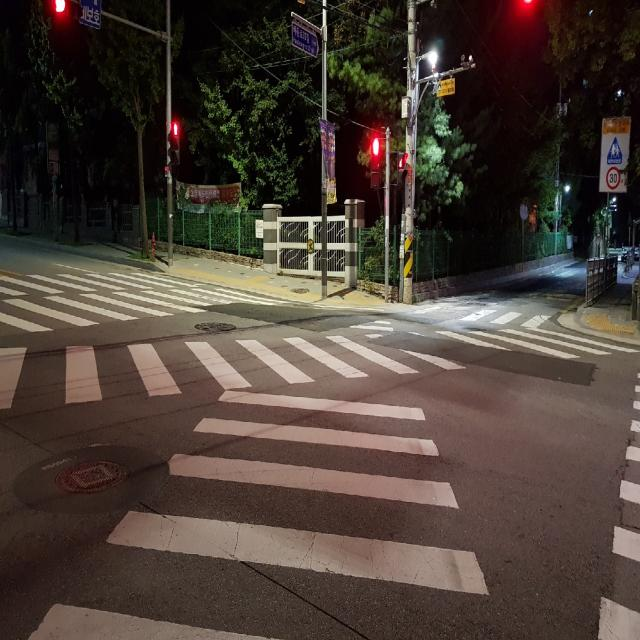빨간불: (370, 131, 383, 189), (168, 120, 182, 169)
횡단보도: (27, 318, 491, 640), (0, 270, 276, 380), (596, 378, 639, 635), (436, 302, 606, 362)
